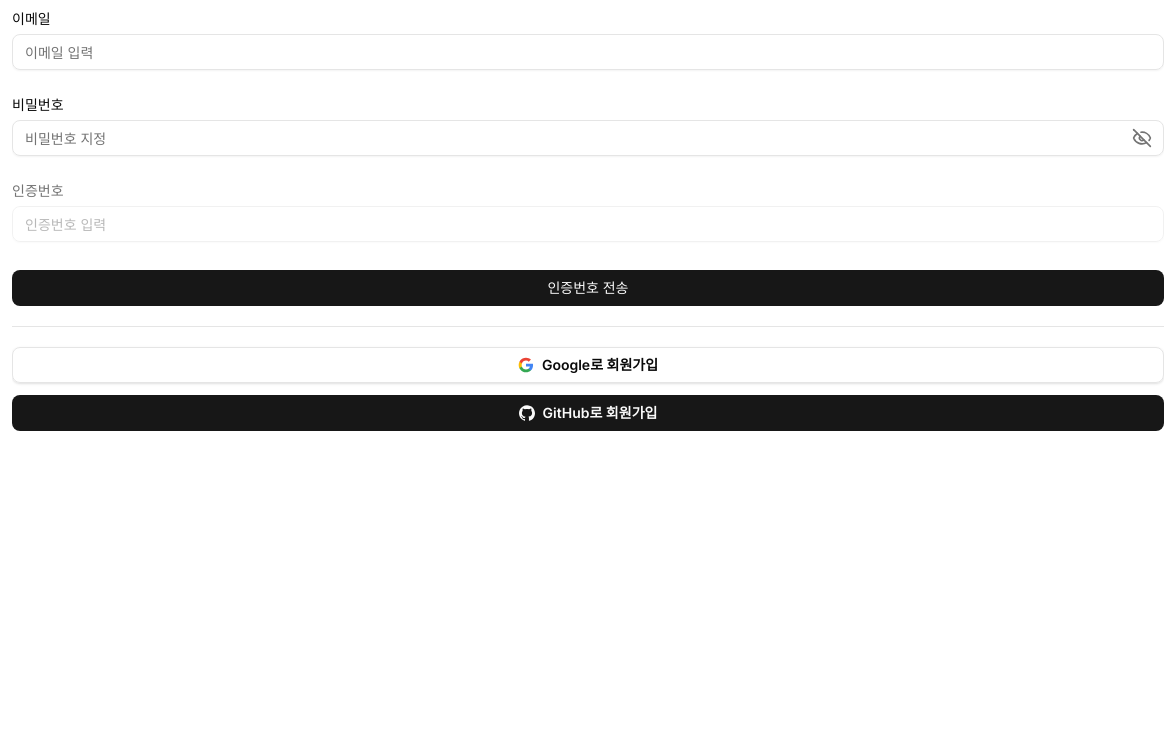
Test: RegisterStep1Form › 이메일 없이 제출하면 에러 메시지를 표시한다
Click the button "인증번호 전송": click(588, 288) [12,270,1164,306]
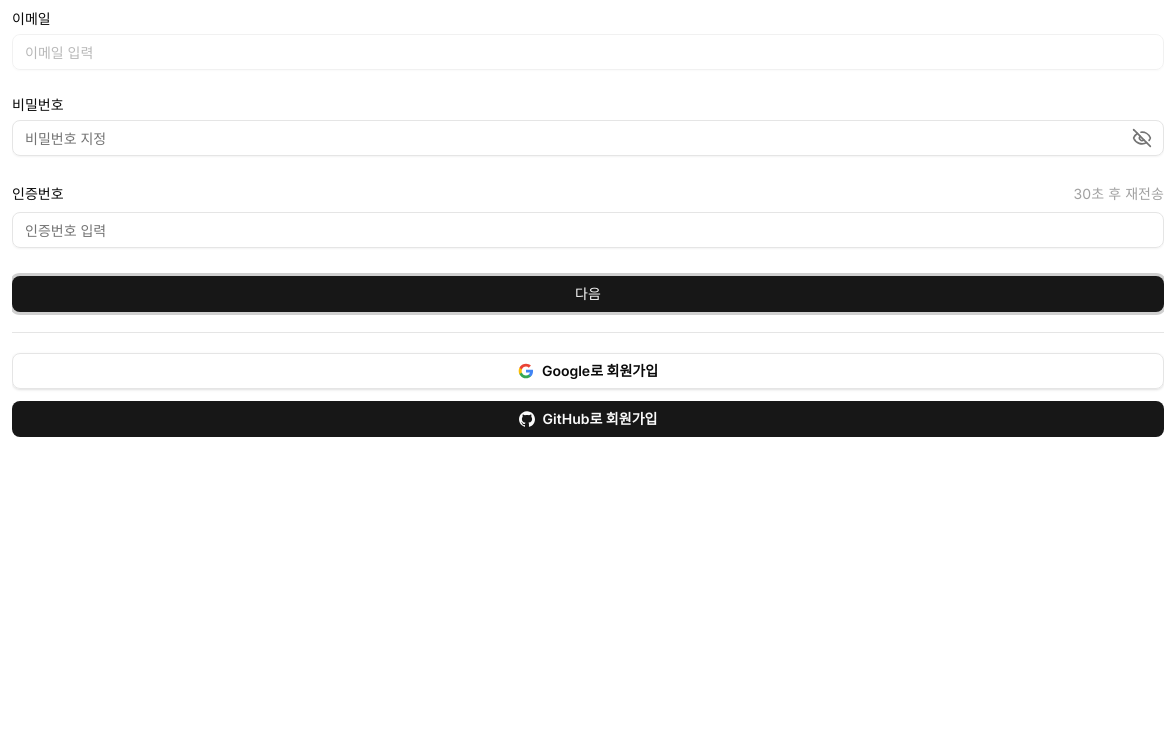
Click the button "다음": click(588, 294) [12,276,1164,312]
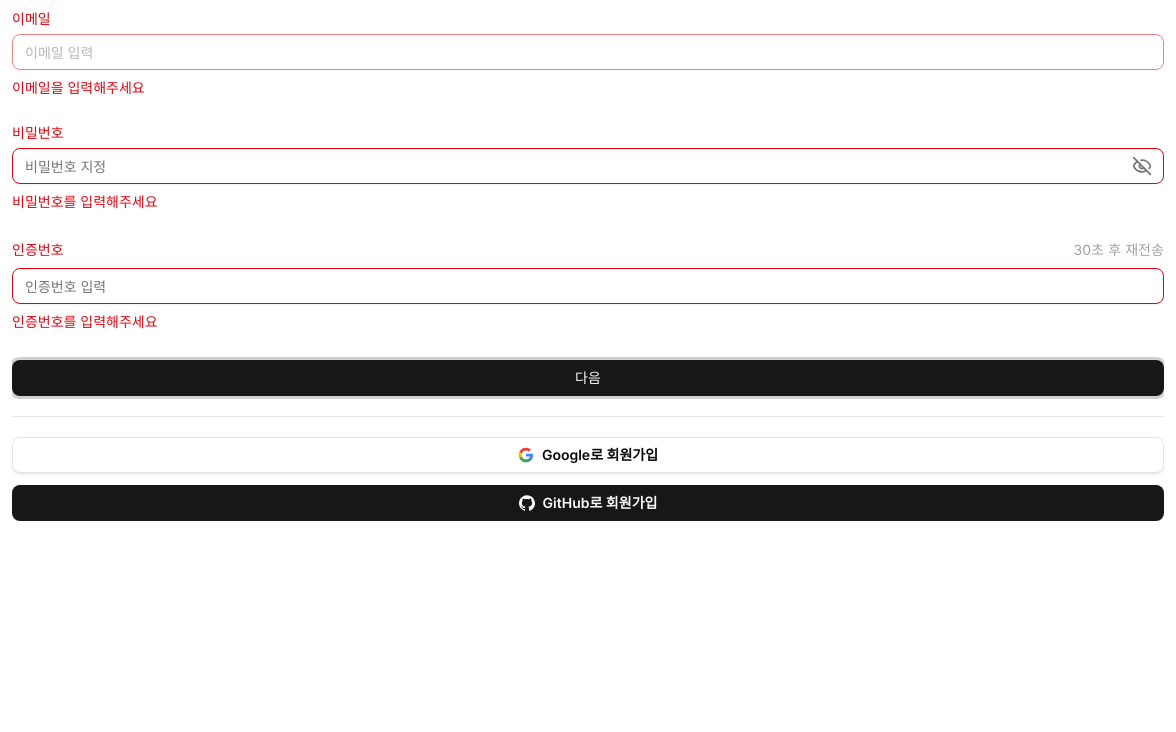
Expected: the text "이메일을 입력해주세요" is shown, [12,79,145,96]
